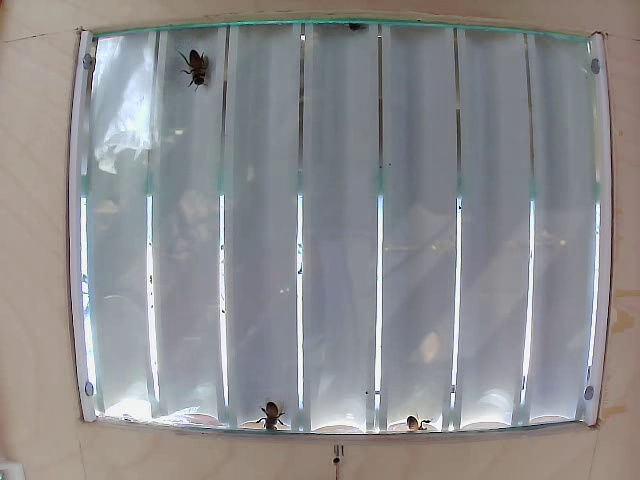bee: (181, 47, 209, 94)
